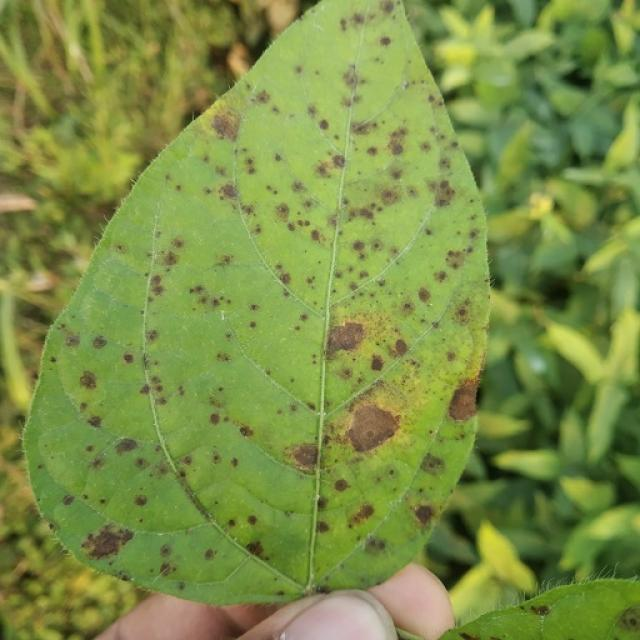Anthracnose: (322, 311, 372, 370), (345, 402, 400, 454), (81, 525, 133, 561), (446, 378, 480, 422), (384, 126, 410, 157), (211, 110, 238, 138), (431, 178, 456, 206), (291, 444, 319, 468), (443, 247, 466, 271), (420, 452, 445, 474), (351, 503, 374, 525), (341, 65, 360, 91), (114, 438, 139, 456), (414, 504, 434, 525), (78, 370, 98, 390), (218, 181, 238, 201), (619, 607, 638, 628), (453, 304, 472, 324), (364, 537, 386, 554), (245, 540, 265, 558), (352, 119, 374, 135), (253, 89, 270, 105), (393, 339, 408, 356), (333, 478, 350, 493), (417, 287, 432, 303), (163, 251, 178, 266), (91, 335, 107, 349), (64, 333, 80, 347), (530, 605, 550, 616), (310, 229, 324, 244), (380, 0, 395, 14), (86, 415, 102, 428), (275, 203, 289, 217), (332, 154, 345, 168), (134, 494, 148, 507), (316, 520, 330, 533), (159, 543, 172, 557), (159, 562, 172, 576), (239, 425, 252, 438), (352, 240, 365, 253), (61, 493, 75, 505), (209, 412, 221, 425), (279, 272, 291, 285), (122, 352, 134, 364), (204, 548, 216, 560), (317, 119, 329, 130), (379, 36, 391, 47), (247, 514, 258, 526), (460, 635, 481, 640)
Blackgram: (24, 0, 488, 602)
